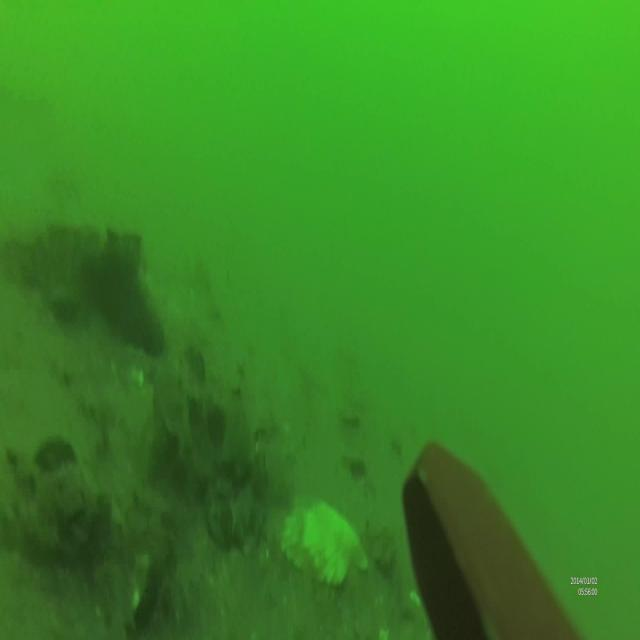scallop: (281, 489, 367, 583)
